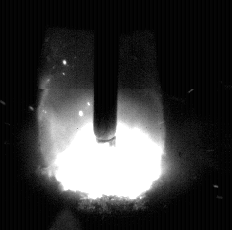arame: (94, 0, 119, 146)
poca: (37, 0, 165, 230)
